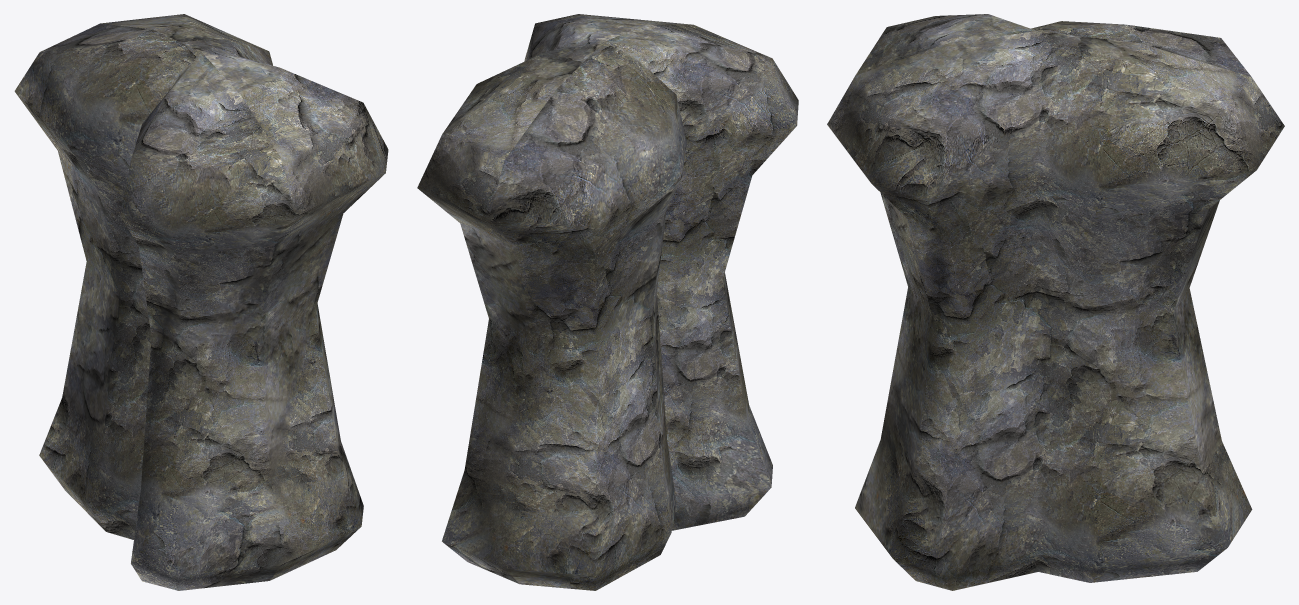
File: Rock_bigLOD1.FBX
The picture shows the model from 3 angles, left to right: view 1: azimuth 30°, elevation 25°; view 2: azimuth 150°, elevation 25°; view 3: azimuth 270°, elevation 25°; orthographic projection. The views are drawn at different scales.
Visible parts, largest first — view 1: Plane10; view 2: Plane10; view 3: Plane10.
Part boxes in pixels (left/top/right/bottom): Plane10: left=14, top=14, right=388, bottom=590; Plane10: left=417, top=14, right=798, bottom=590; Plane10: left=827, top=14, right=1284, bottom=590.
Size of the model in its own units: 853 by 1506 by 1172.
1 material, 1 textured.
